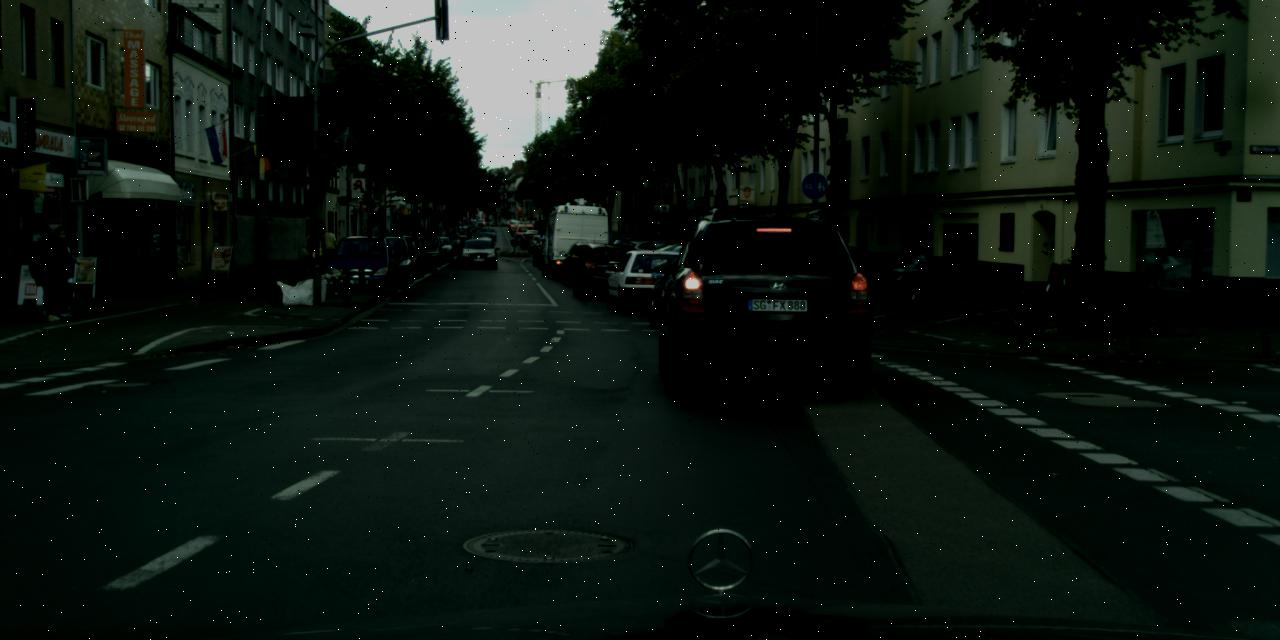ped: (28, 222, 66, 318), (46, 225, 81, 314), (323, 228, 336, 262), (667, 233, 677, 258), (407, 227, 412, 235), (426, 230, 431, 236), (420, 222, 422, 235)
